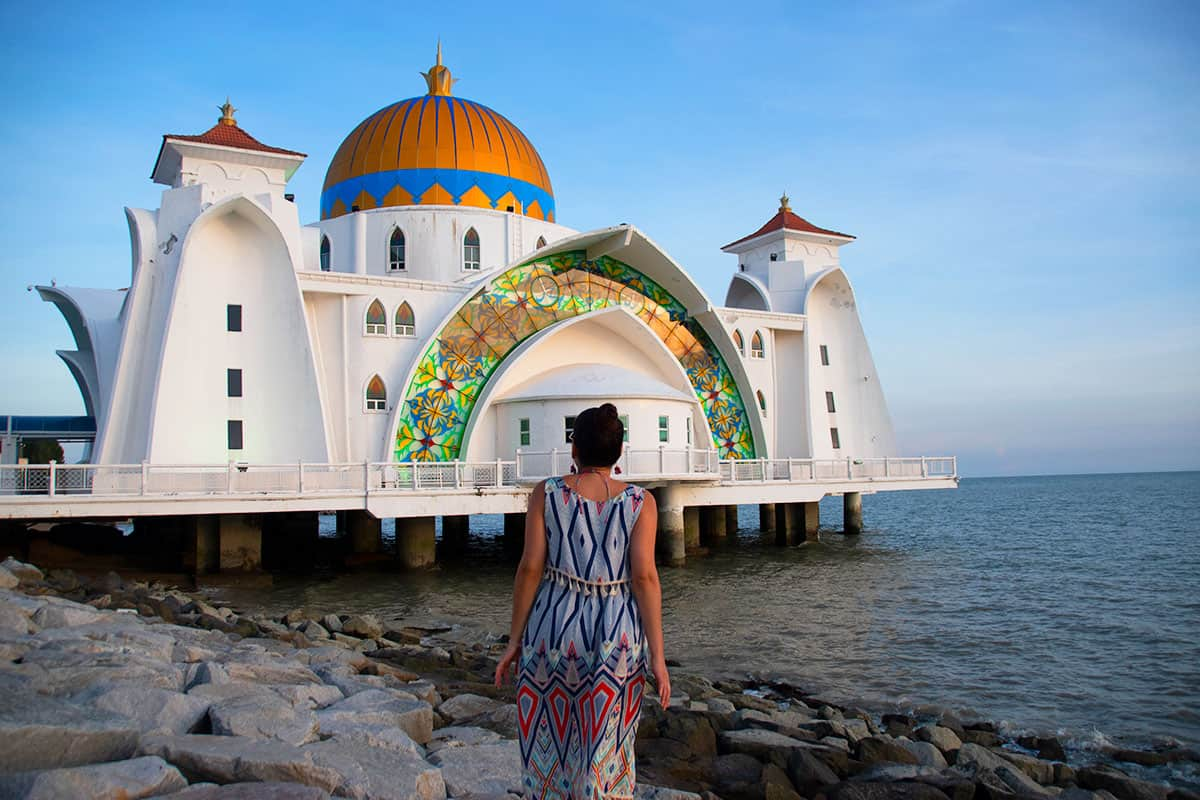Mosque: (91, 46, 924, 530)
